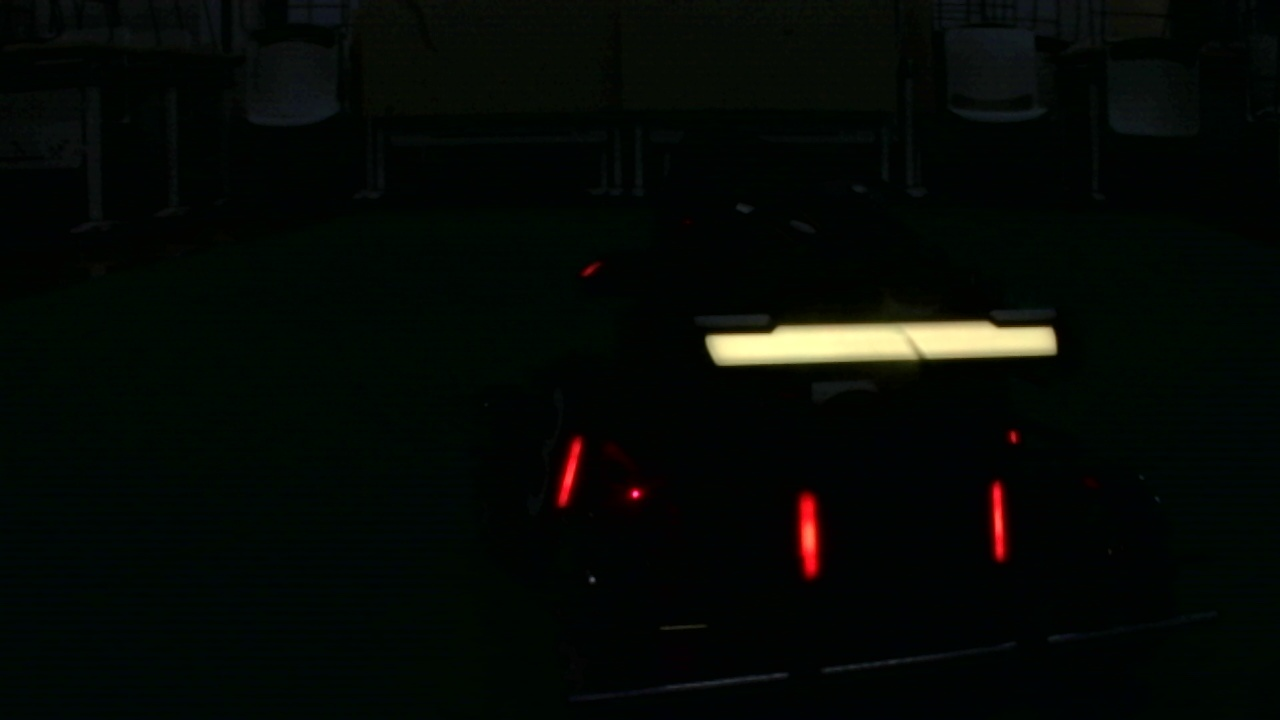lamp: (793, 491, 827, 580), (983, 479, 1010, 564), (555, 431, 584, 509)
notpair1: (552, 441, 826, 576)
pair1: (796, 479, 1011, 583)
